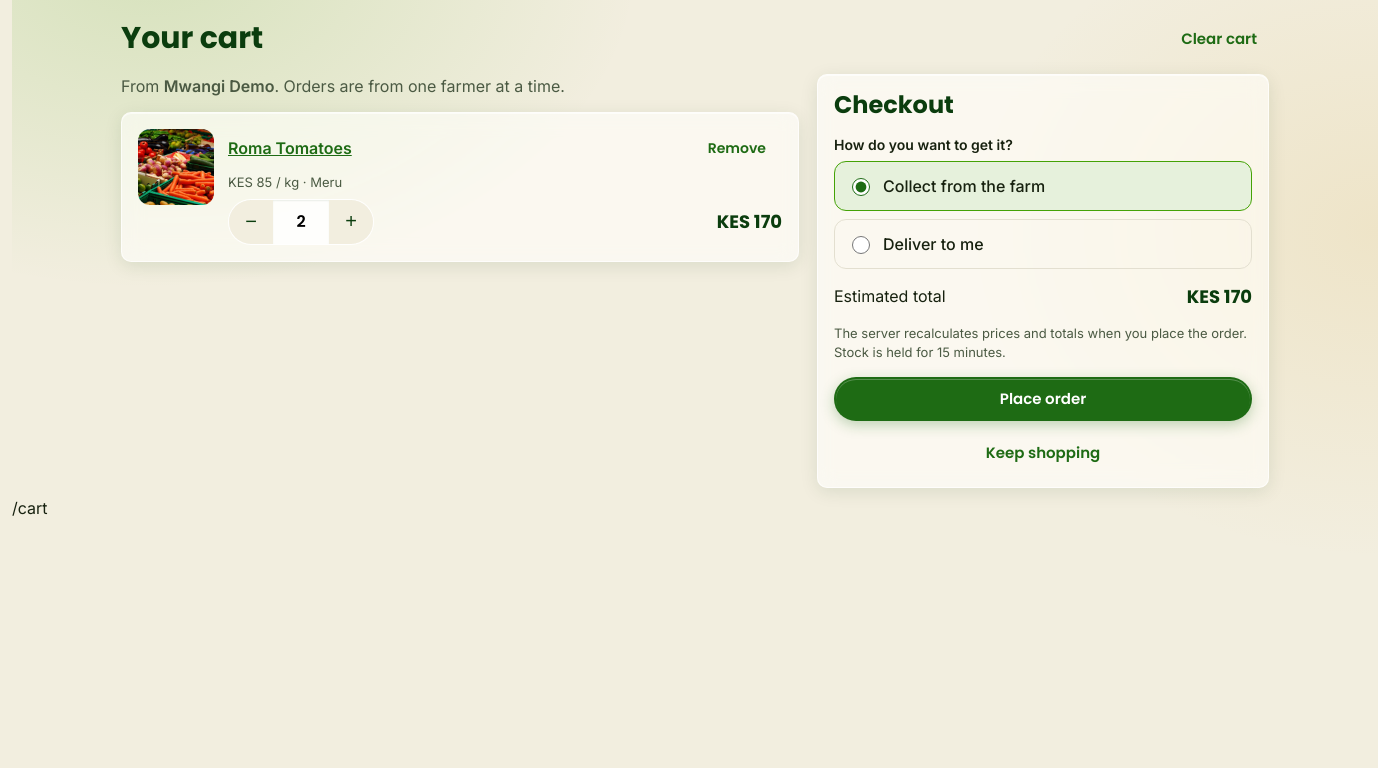
it: checkout › requires a delivery location for delivery orders and shows per-line stock errors
Click the radio button labelled "Deliver to me": (861, 245) top-left (852, 236), bottom-right (870, 254)
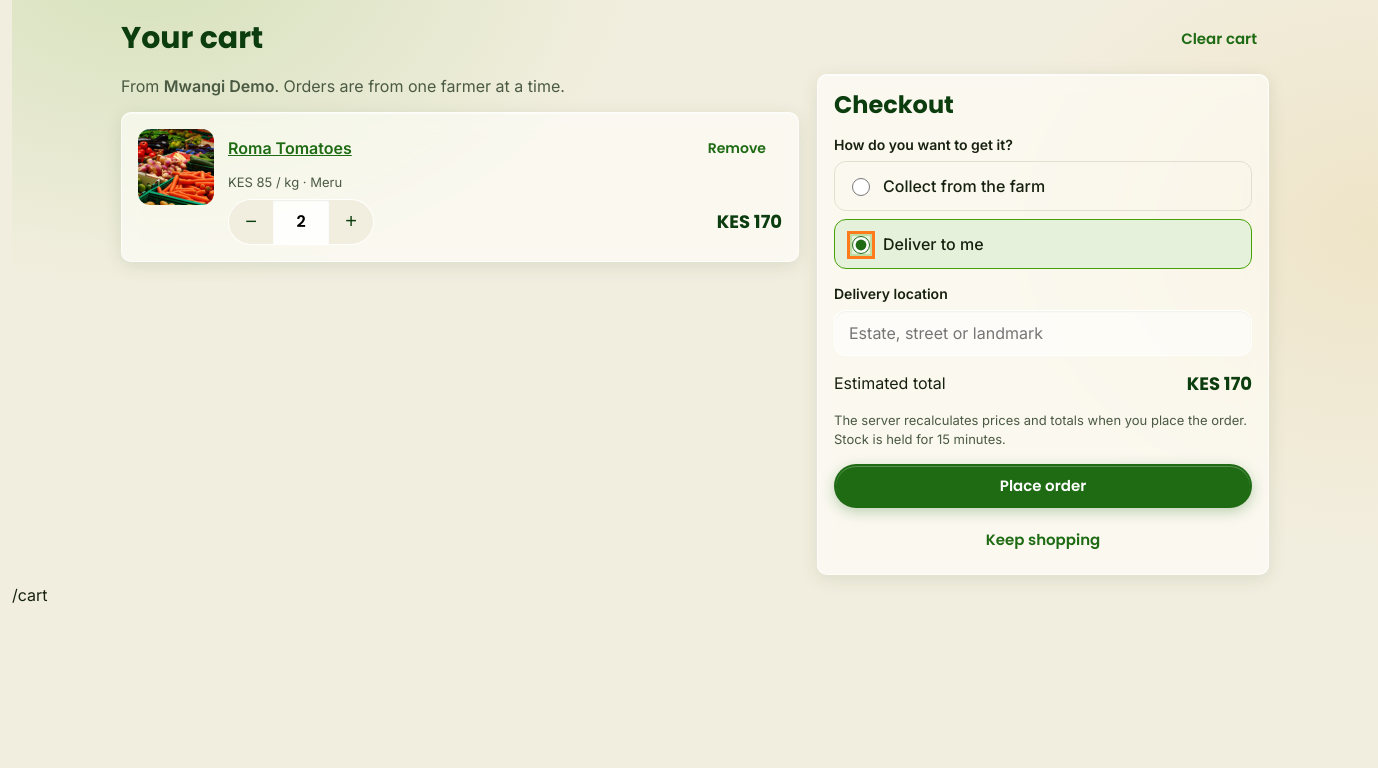
Click the button "Place order": (1043, 486) top-left (834, 464), bottom-right (1252, 508)
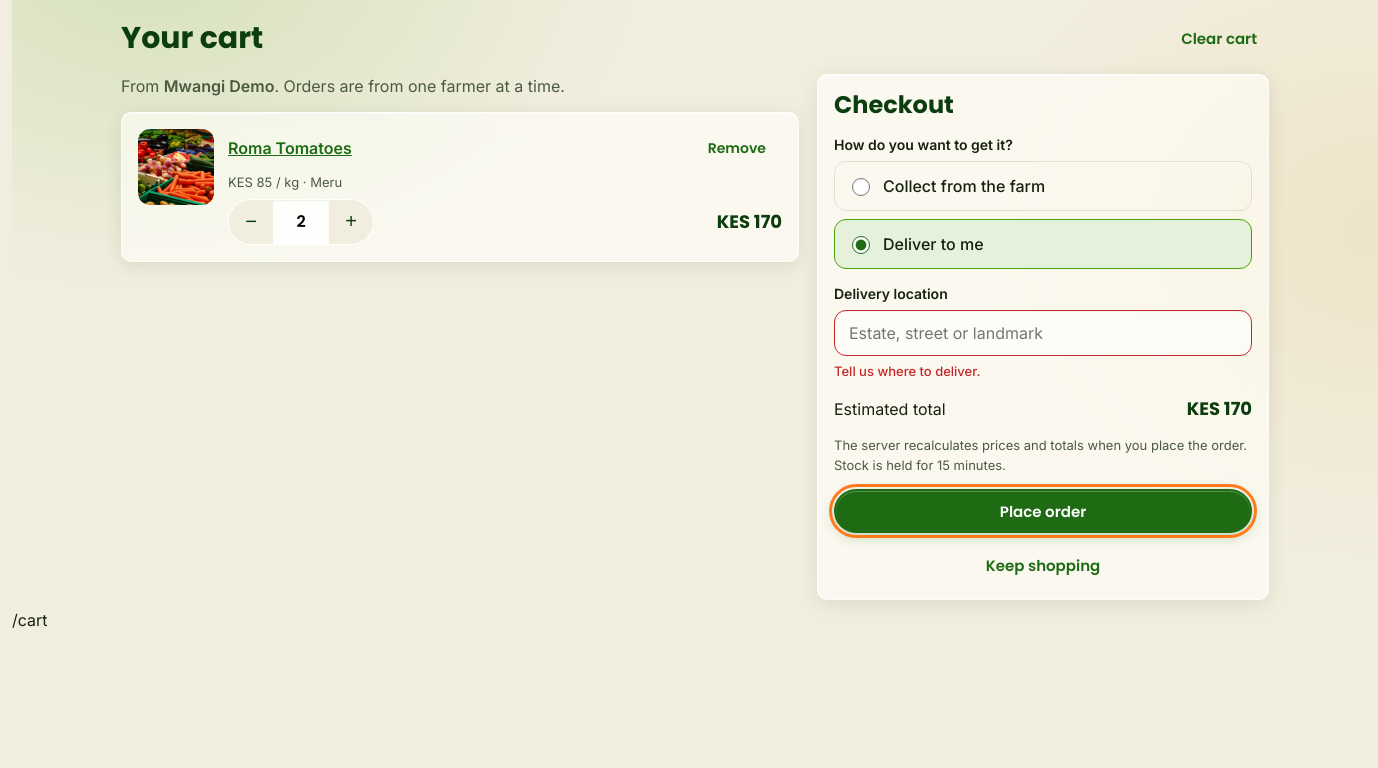
Expected: the text "Tell us where to deliver." is shown, top-left (834, 363), bottom-right (980, 379)
In the field labelled "Delivery location": (1043, 333) top-left (834, 310), bottom-right (1252, 356), type "Kilimani"
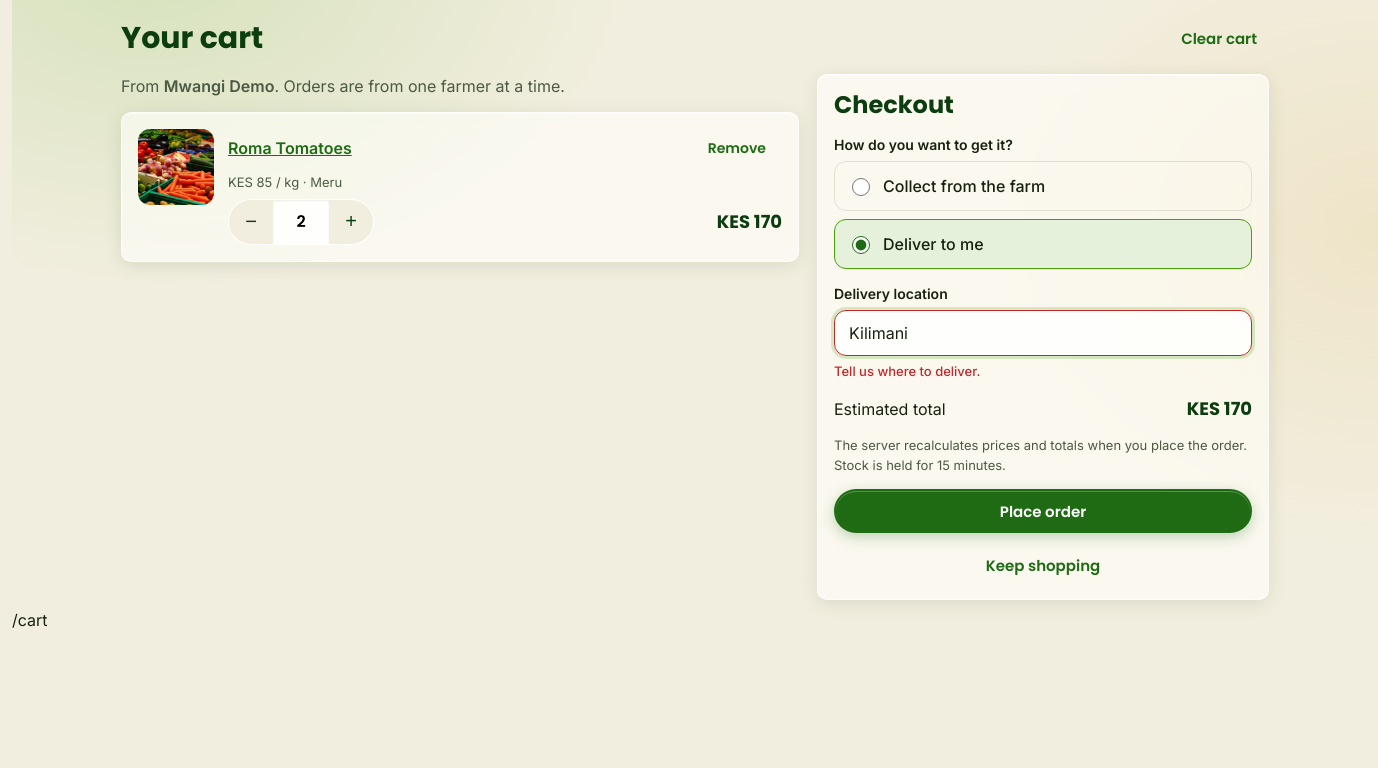
Click the button "Place order": (1043, 511) top-left (834, 489), bottom-right (1252, 533)
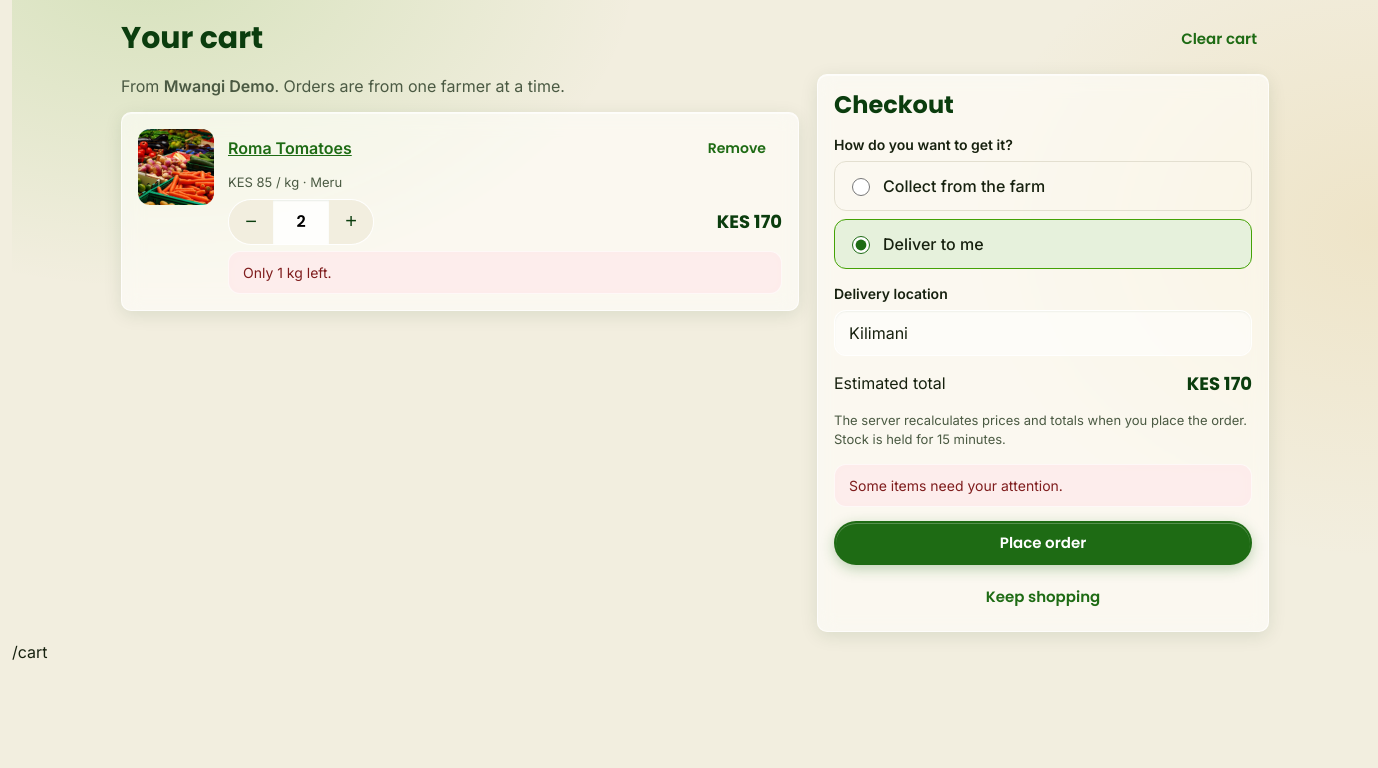
Expected: the text "Only 1 kg left." is shown, top-left (228, 250), bottom-right (782, 294)
